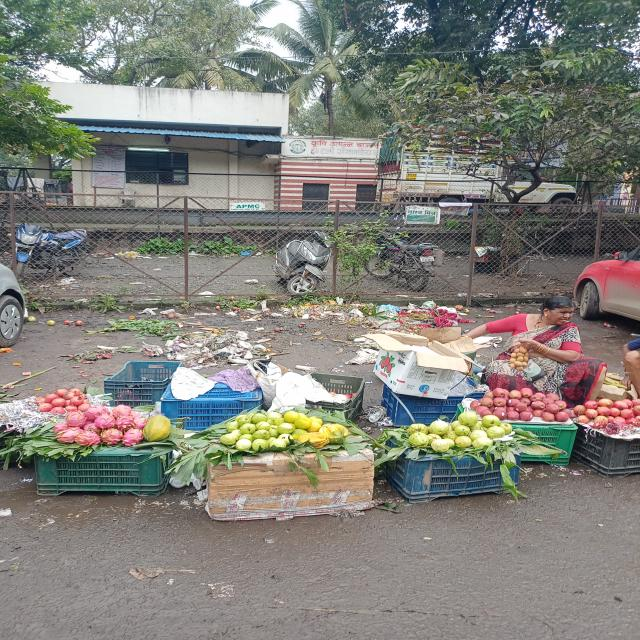garbage: (216, 293, 468, 328), (102, 317, 269, 363)
